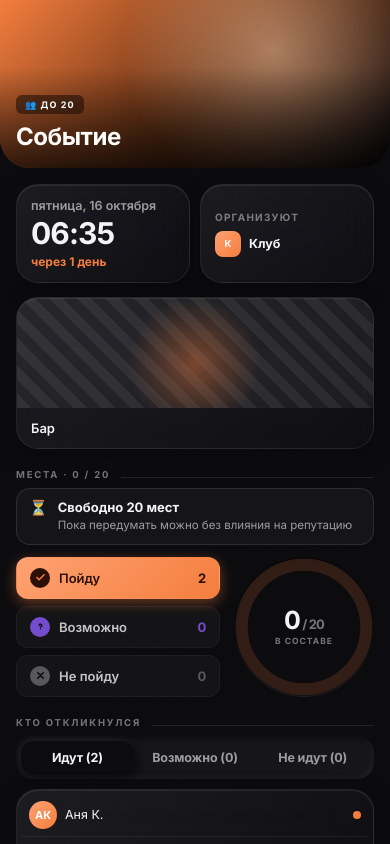
Test: EventPage — блок «Набор» (event-vote-block.md) › AC-VB6: пустой таб → «Здесь пока пусто», строки-намёка новичка нет
Step 1. Click the button "Возможно (0)" → (195, 757), box [139,741,251,774]
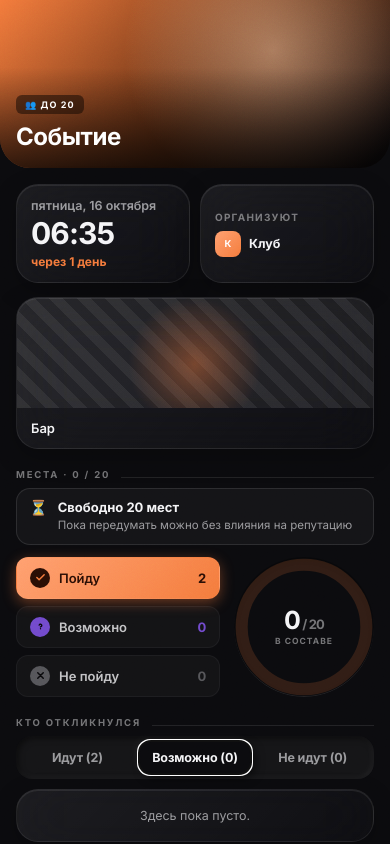
Result: the text "Здесь пока пусто." is shown at [140,808,250,823]
